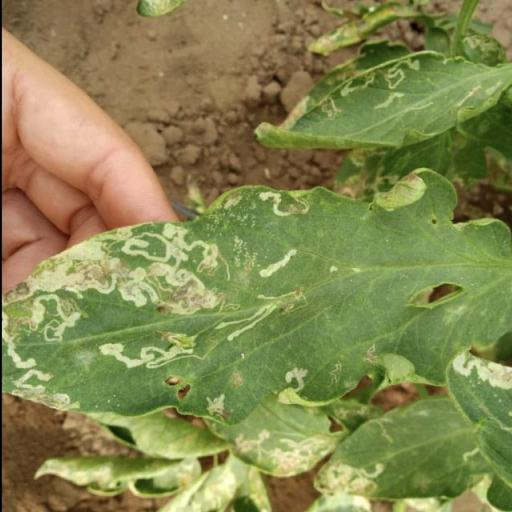disease_tomato: (0, 169, 512, 426), (252, 52, 512, 152)
